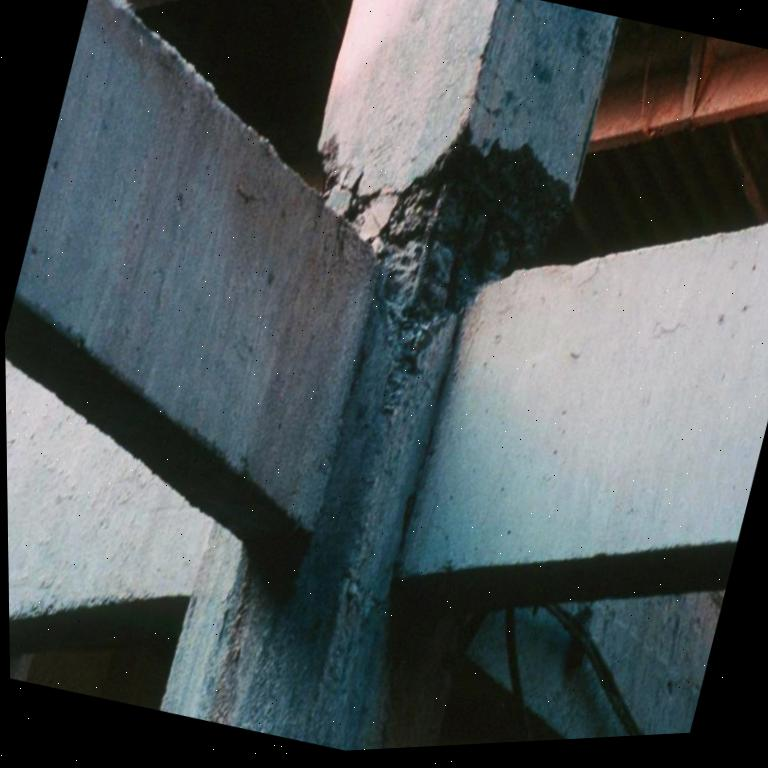spalling: (314, 114, 575, 408)
